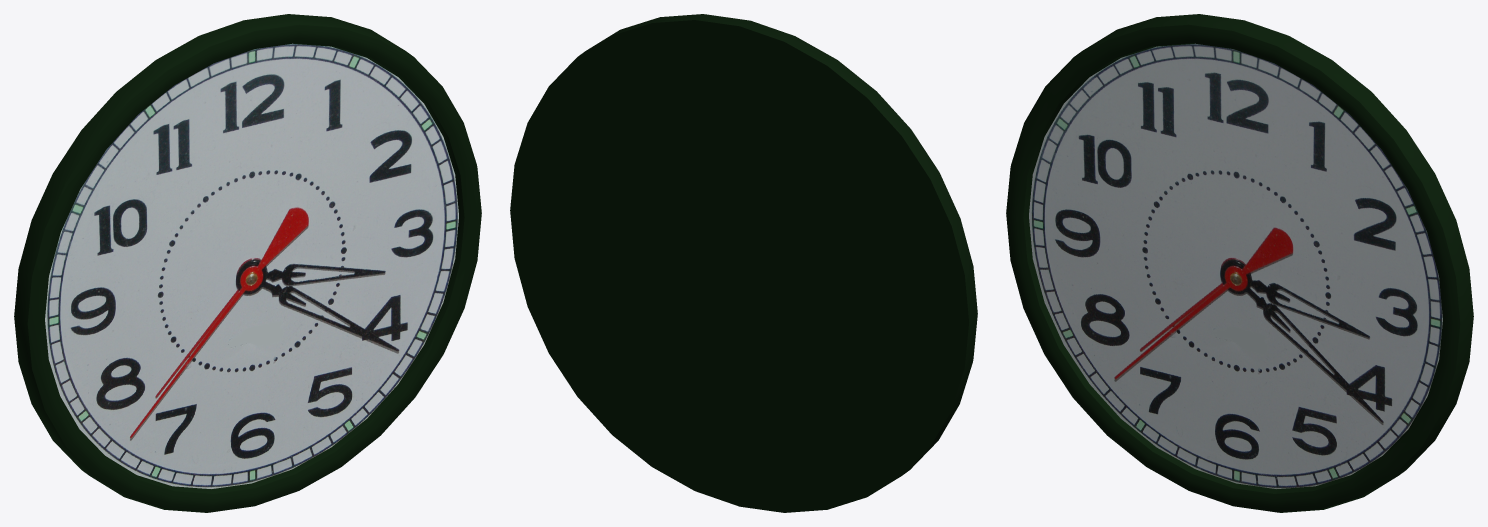
Rendered from clock.fbx.
The picture shows the model from 3 angles, left to right: view 1: azimuth 30°, elevation 25°; view 2: azimuth 150°, elevation 25°; view 3: azimuth 330°, elevation 25°; orthographic projection.
Visible parts, largest first — view 1: clock; view 2: clock; view 3: clock.
Boxes of the visible parts, x1,y1,x2,y2 form: clock: (14,14,481,512); clock: (510,14,977,512); clock: (1006,14,1473,512).
Bounding box in the file's own units: 29.53 × 29.53 × 1.38.
